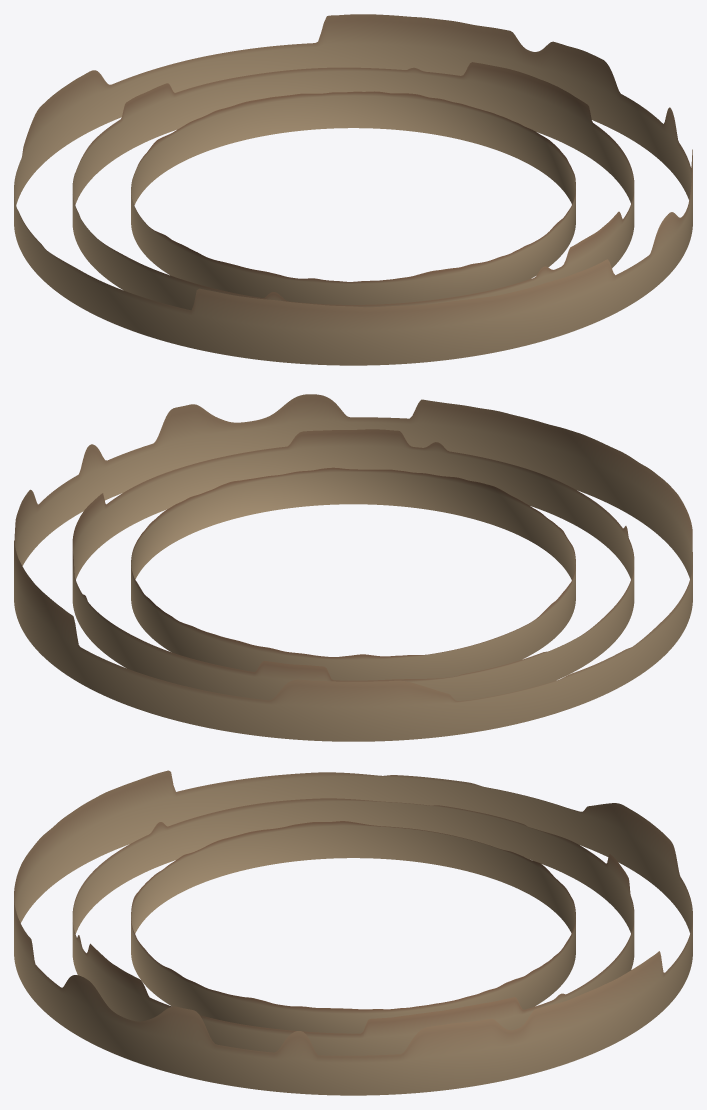
The picture shows the model from 3 angles, top to bottom: view 1: azimuth 30°, elevation 25°; view 2: azimuth 150°, elevation 25°; view 3: azimuth 270°, elevation 25°; orthographic projection.
Parts seen in each view (by area): view 1: Backdrop_L1_2; view 2: Backdrop_L1_2; view 3: Backdrop_L1_2.
Boxes of the visible parts, x1,y1,x2,y2 form: Backdrop_L1_2: (14, 14, 692, 365); Backdrop_L1_2: (14, 394, 692, 741); Backdrop_L1_2: (14, 770, 692, 1095).
Bounding box in the file's own units: 2320 × 258 × 2320.
